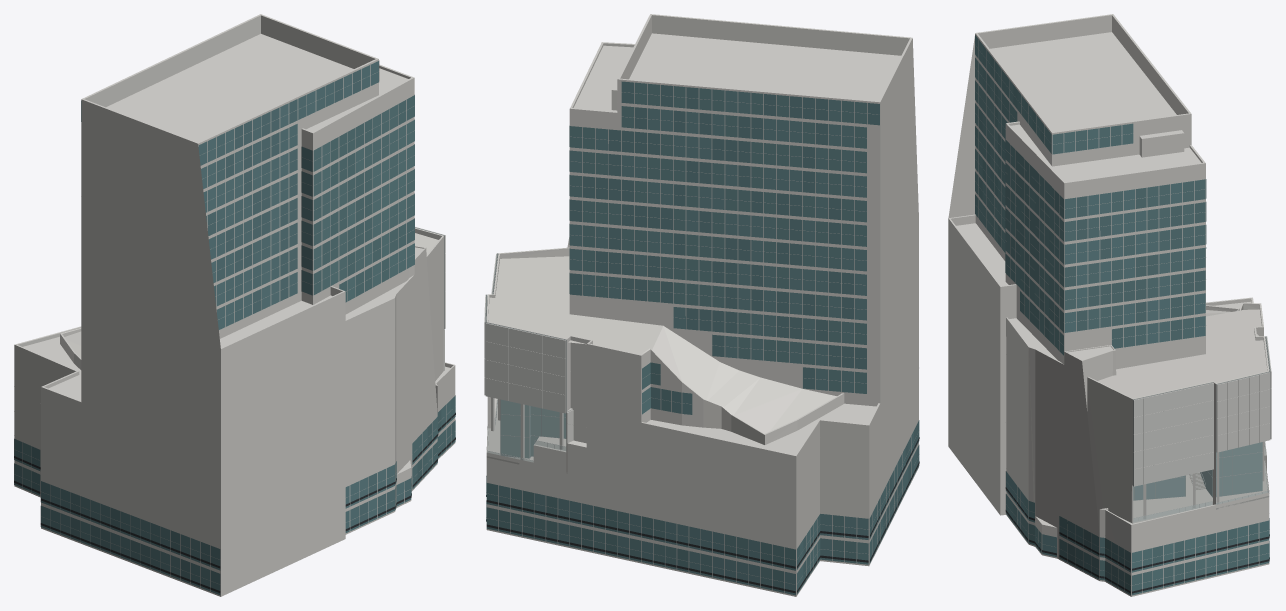
Rendered from parco.glb.
The picture shows the model from 3 angles, left to right: view 1: azimuth 30°, elevation 25°; view 2: azimuth 150°, elevation 25°; view 3: azimuth 270°, elevation 25°; orthographic projection. The views are drawn at different scales.
Parts seen in each view (by area): view 1: parco_wall, parco_roof, parco_glass0, parco_glass2, parco_glass1, parco_frame, parco_sign_housing; view 2: parco_wall, parco_roof, parco_glass0, parco_glass2, parco_glass1, parco_frame, parco_podium_cladding, prototype_terrace_retained, prototype_terrace_glass, parco_sign_housing, prototype_terrace_structure, prototype_terrace_floor (+1 smaller); view 3: parco_wall, parco_roof, parco_glass2, parco_glass1, parco_glass0, parco_podium_cladding, parco_frame, prototype_terrace_glass, prototype_terrace_floor, prototype_terrace_retained, parco_sign_housing, prototype_terrace_structure (+4 smaller).
Part boxes in pixels (box(x1,y1,x2,y2)): parco_wall: box(14, 15, 455, 596); parco_roof: box(14, 14, 454, 474); parco_glass0: box(14, 69, 455, 594); parco_glass2: box(23, 73, 450, 591); parco_glass1: box(14, 61, 455, 587); parco_frame: box(14, 60, 455, 591); parco_sign_housing: box(14, 413, 455, 592); parco_wall: box(487, 15, 918, 596); parco_roof: box(486, 14, 912, 455); parco_glass0: box(486, 81, 919, 592); parco_glass2: box(498, 90, 916, 595); parco_glass1: box(510, 82, 913, 594); parco_frame: box(487, 83, 919, 594); parco_podium_cladding: box(484, 253, 565, 413); prototype_terrace_retained: box(486, 322, 586, 529); prototype_terrace_glass: box(500, 399, 566, 458); parco_sign_housing: box(486, 437, 919, 593); prototype_terrace_structure: box(491, 397, 573, 473); prototype_terrace_floor: box(486, 398, 566, 464); parco_wall: box(948, 15, 1268, 596); parco_roof: box(949, 14, 1269, 527); parco_glass2: box(975, 40, 1216, 577); parco_glass1: box(975, 35, 1269, 591); parco_glass0: box(975, 55, 1269, 595); parco_podium_cladding: box(1133, 336, 1271, 486); parco_frame: box(975, 46, 1268, 595); prototype_terrace_glass: box(1133, 442, 1262, 500); prototype_terrace_floor: box(1133, 441, 1269, 523); prototype_terrace_retained: box(1133, 371, 1269, 563); parco_sign_housing: box(1005, 487, 1269, 593); prototype_terrace_structure: box(1131, 441, 1265, 523).
Size of what is drawn, in the model's own units: 95.32 by 101 by 72.43.
